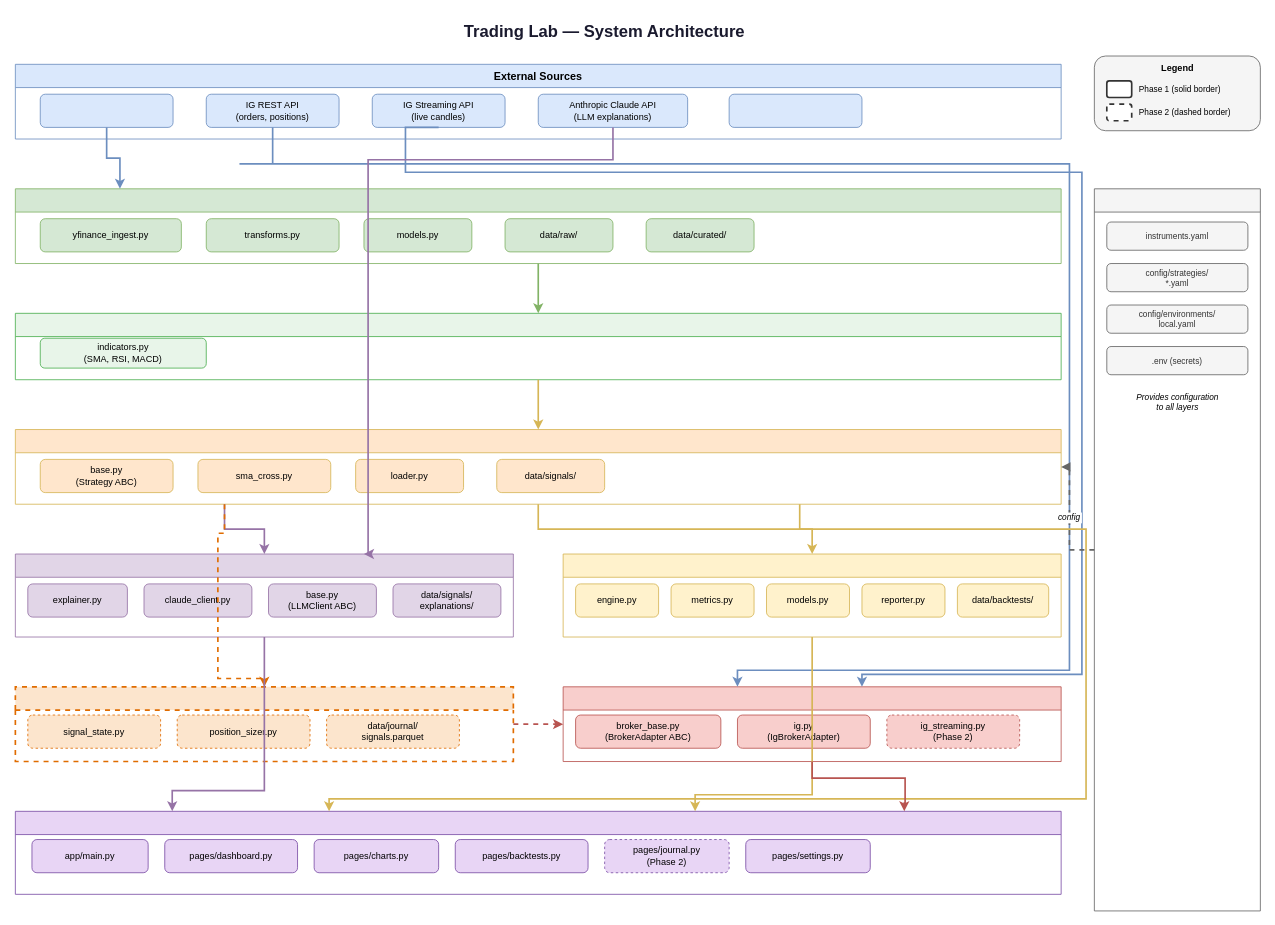
Image size: 1275x925. Some labels were removed from this diagram. Here are the shapes that lost their labels. From the top down, the box of each, then its label:
(39, 93, 173, 127): yfinance (research data)
(728, 93, 862, 127): News / Economic Calendar
(15, 188, 1061, 264): Data Layer
(15, 312, 1061, 380): Features Layer
(15, 429, 1061, 504): Strategy Layer
(1094, 188, 1260, 911): Config Layer
(15, 553, 513, 637): LLM Explanation Layer
(562, 553, 1061, 637): Backtesting Layer
(14, 686, 514, 762): Signal Approval Layer — Phase 2
(562, 686, 1061, 762): Execution Layer
(15, 810, 1061, 894): Application Layer — Streamlit
